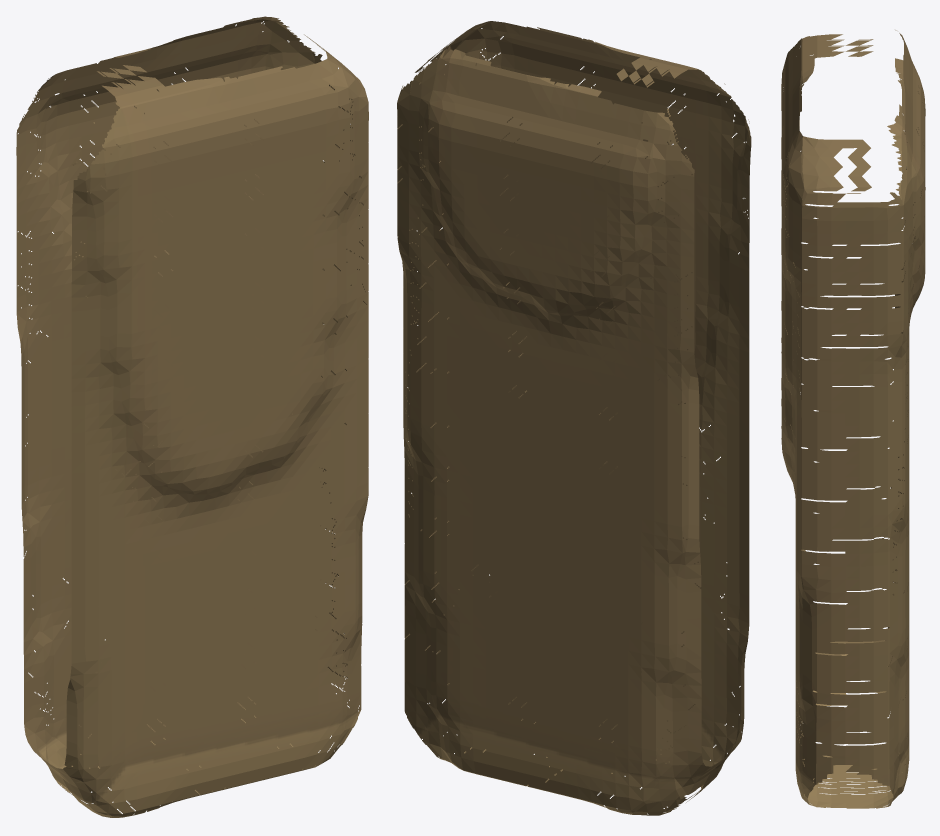
3 views of the same model, side by side, from view 1: azimuth 30°, elevation 25°; view 2: azimuth 150°, elevation 25°; view 3: azimuth 270°, elevation 25° (orthographic). The views are drawn at different scales.
Parts seen in each view (by area): view 1: reconstruction; view 2: reconstruction; view 3: reconstruction.
Part boxes in pixels (x1,y1,x2,y2): reconstruction: (16,16,368,817); reconstruction: (397,21,751,815); reconstruction: (781,30,925,808).
Bounding box in the file's own units: 0.4379 × 1 × 0.1844.
1 material, 1 textured.
